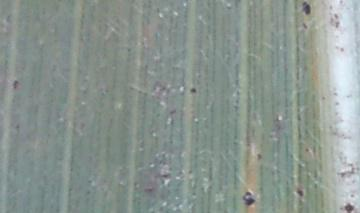tarspot: (336, 162, 355, 179), (242, 190, 256, 207), (342, 201, 355, 213), (301, 1, 312, 15), (141, 185, 155, 194), (294, 187, 305, 198), (11, 79, 20, 90), (300, 19, 309, 30), (167, 108, 179, 116), (255, 151, 263, 162), (333, 19, 341, 30), (159, 172, 170, 180), (188, 86, 198, 94), (338, 45, 346, 54), (303, 145, 311, 153), (348, 192, 356, 200), (332, 11, 340, 19), (14, 122, 21, 131), (155, 5, 161, 15), (320, 94, 327, 102), (333, 99, 340, 107), (126, 46, 132, 54), (328, 3, 333, 12), (332, 90, 337, 98), (338, 1, 345, 5)
